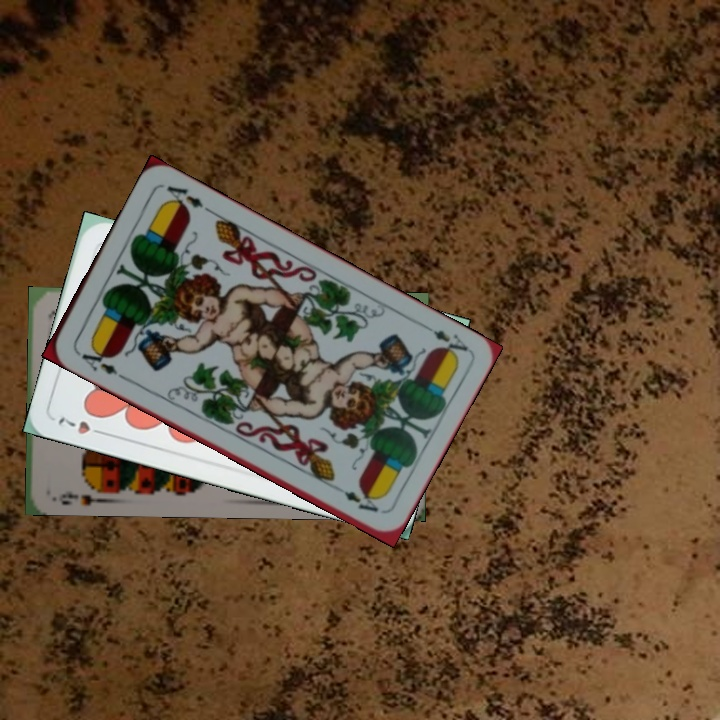EA: (417, 319, 471, 361), (72, 341, 126, 382)
H7: (54, 413, 110, 439)
S9: (50, 480, 109, 507)
